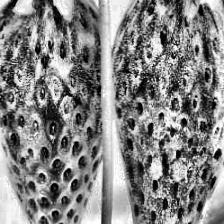Powdery Mildew Fruit: (110, 0, 224, 224), (0, 0, 104, 224)
